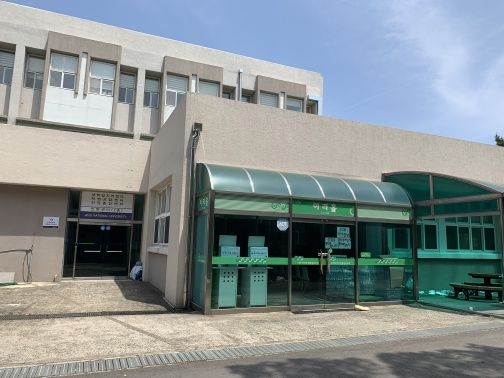Ara Hall: (144, 86, 502, 328), (183, 152, 431, 308)
